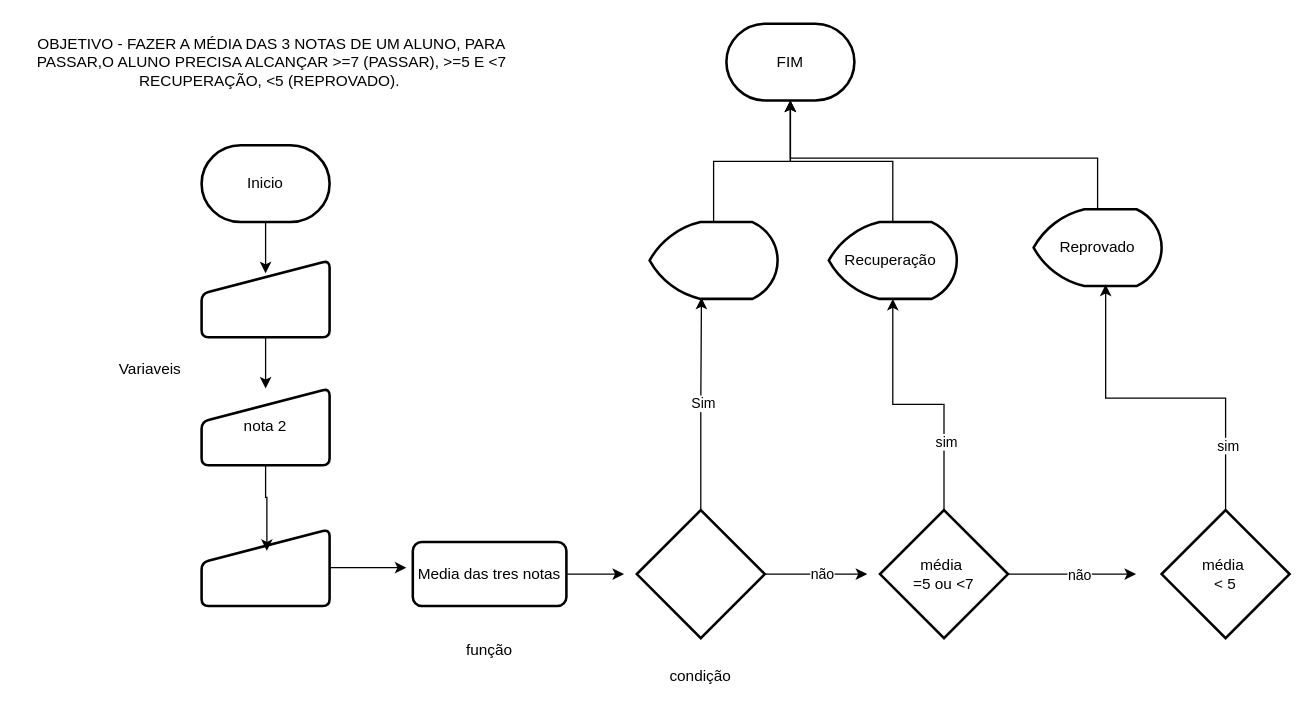
Image size: 1312x717. Some labels were removed from this diagram. Each missing label, with the centre of its shape:
"Aprovado" belongs at (713,260).
"média >=7" belongs at (700,573).
"nota 1" belongs at (265,298).
"nota 3" belongs at (265,567).
